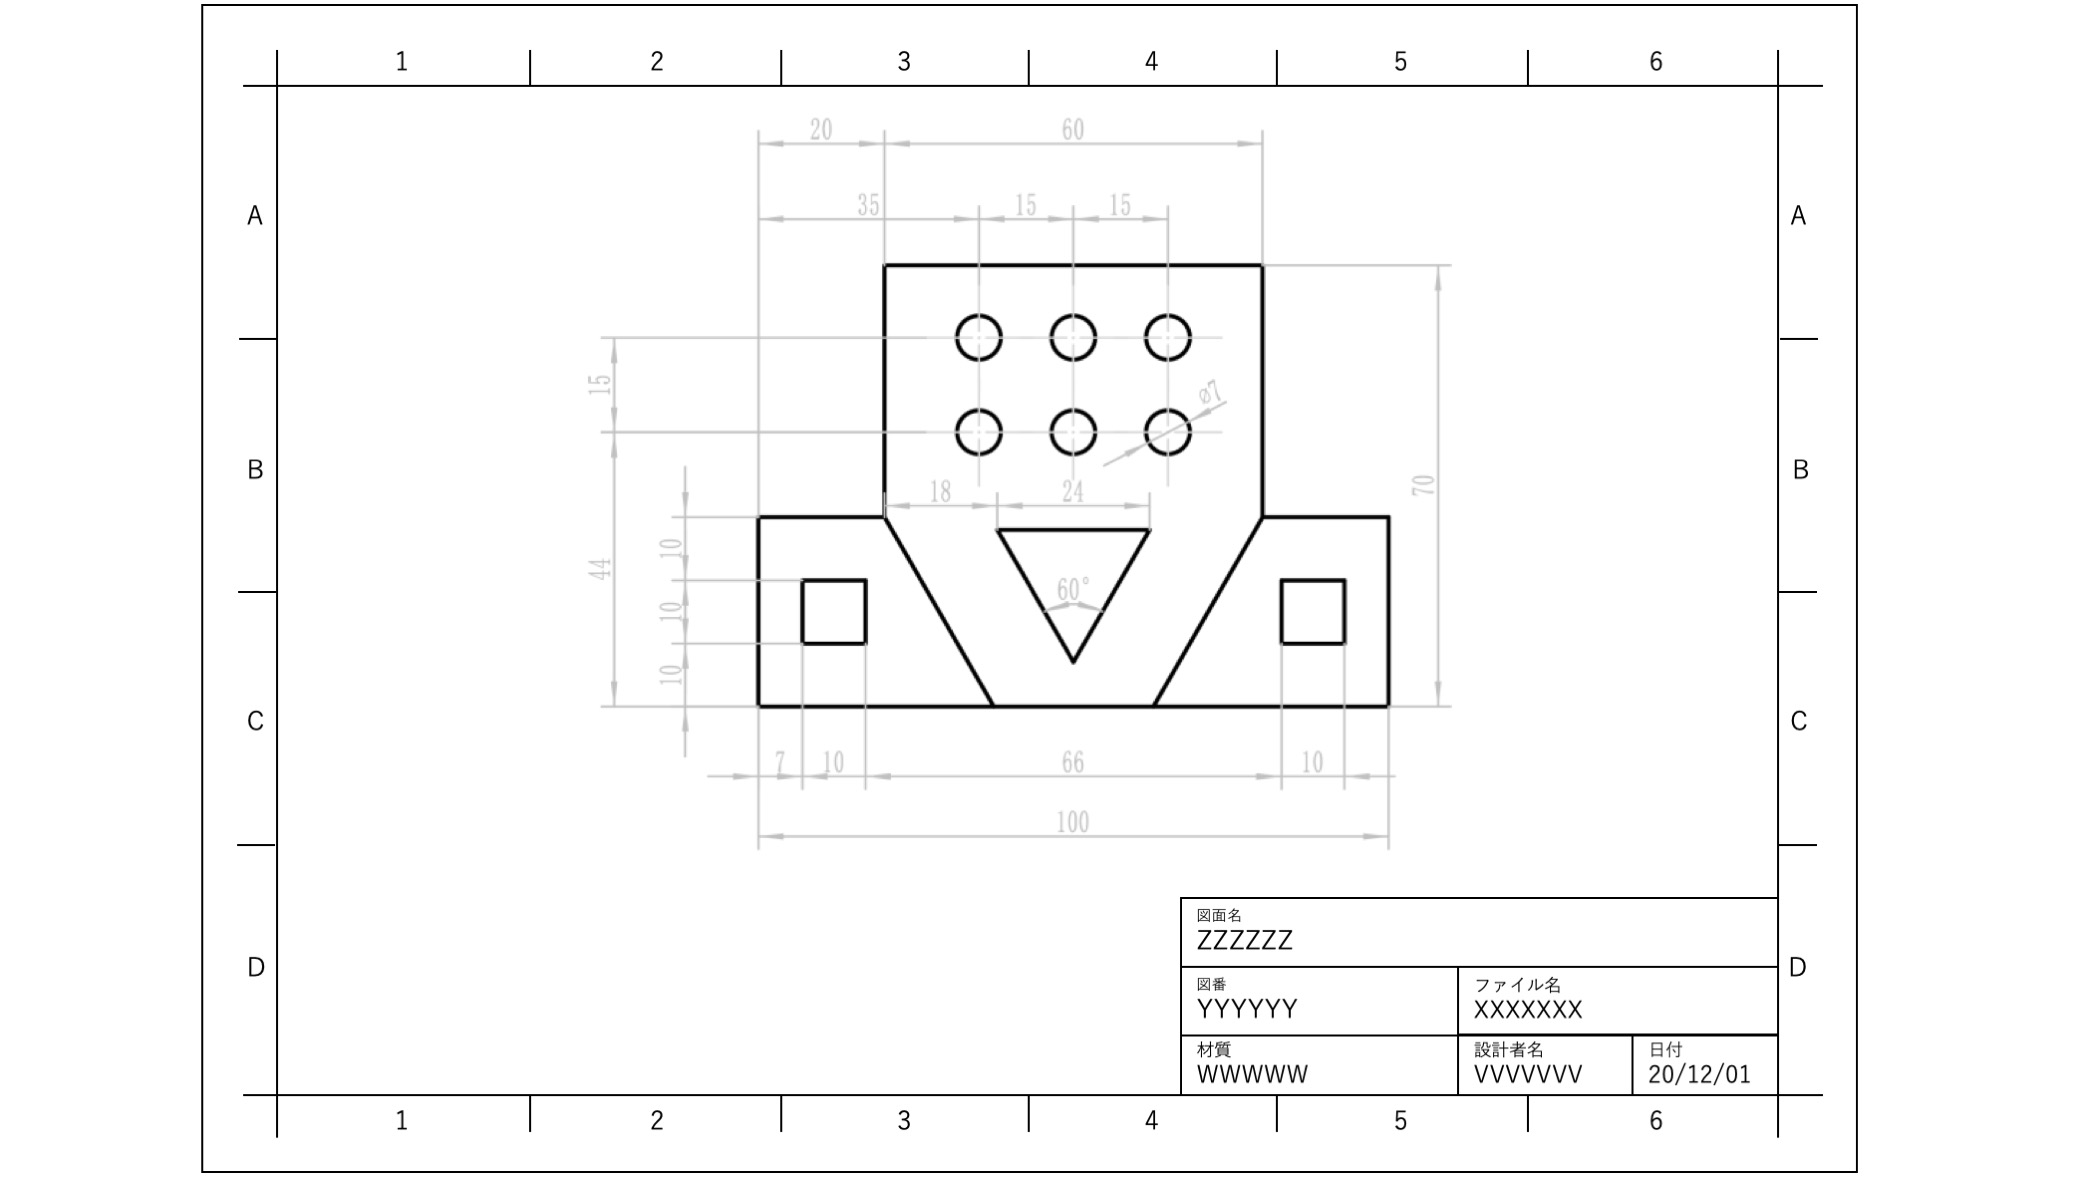circle: (942, 301, 1012, 369), (1038, 398, 1103, 461), (1041, 303, 1108, 363), (945, 399, 1007, 459), (1141, 309, 1197, 369), (1138, 404, 1196, 459)
rectangle: (1274, 565, 1353, 655), (798, 568, 874, 652)
triangle: (985, 513, 1154, 676)
